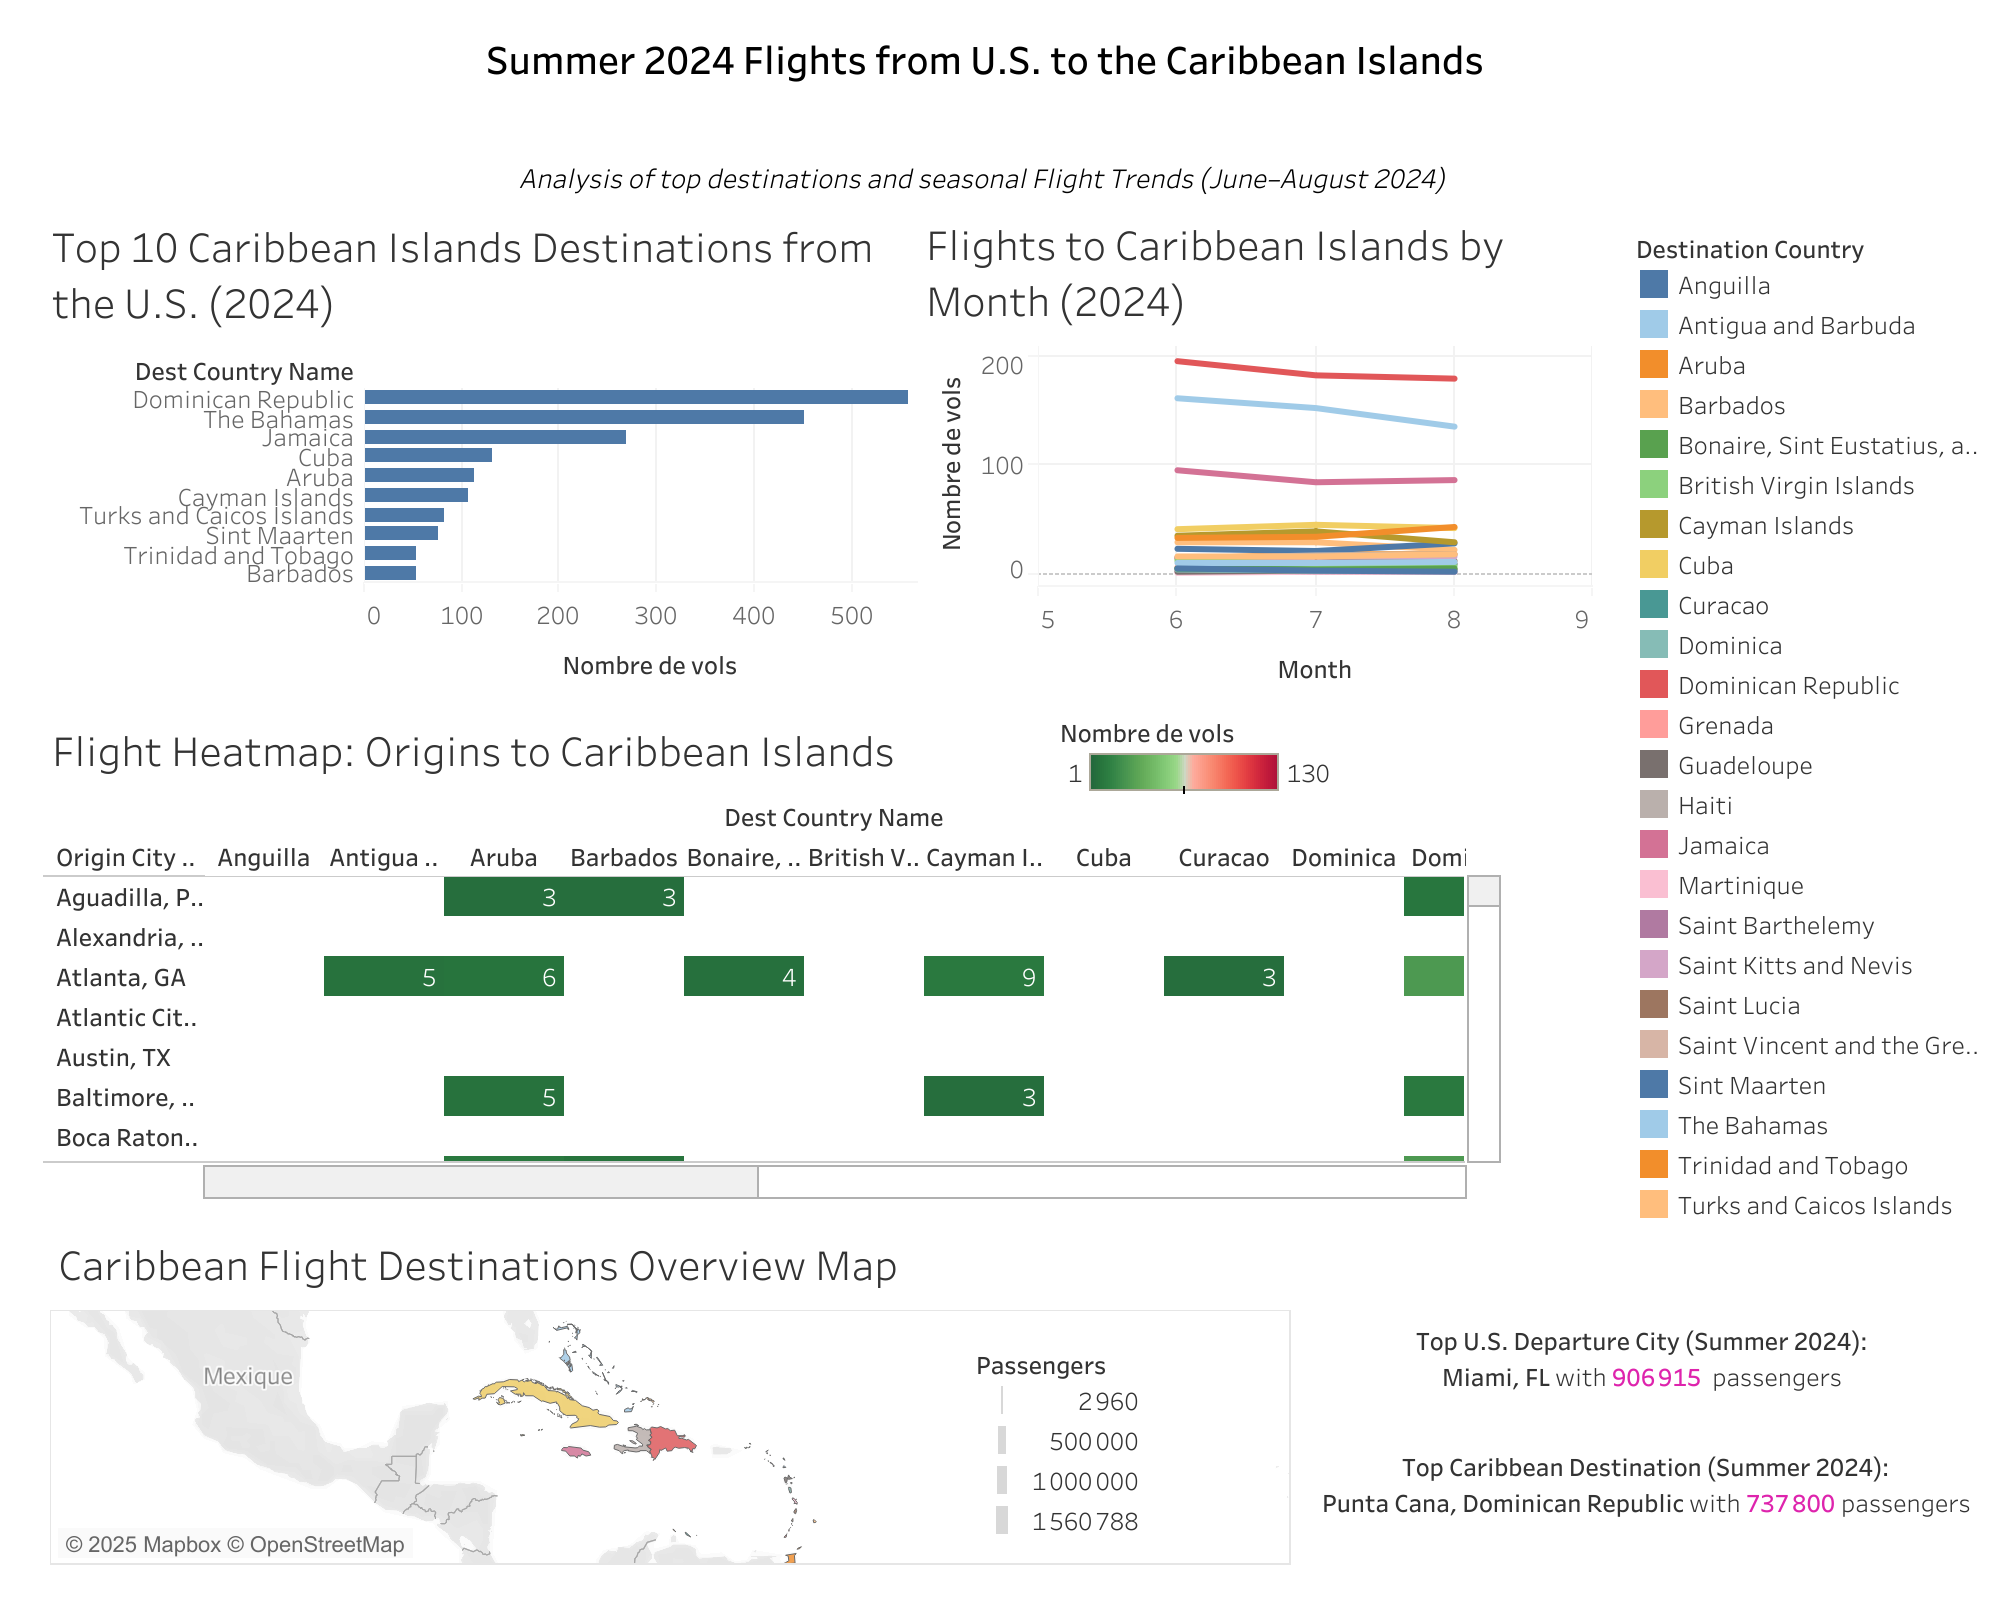

This screenshot's page, from the dashboard's own definition file:
{"tool":"tableau","page":{"name":"Summer 2024 Flights Dashboard","canvas":[1000,800],"ordinal":0},"visuals":[{"type":"text","box":[213,14,559,86]},{"type":"worksheet","title":"Flights by Month (Summer 2024)","mark":"Automatic","rows":["Calculation_1055583551770716"],"cols":["MONTH"],"box":[459,102,337,248]},{"type":"worksheet","title":"Top 10 Caribbean Islands Destinations from the U.S. (2024)","mark":"Automatic","rows":["DEST_COUNTRY_NAME"],"cols":["Calculation_1055583551770716"],"box":[22,103,446,245]},{"type":"legend","title":"Flights by Month (Summer 2024)","param":"[federated.09rpq0c1dmxqzr1ciyg1q0bdrgly].[none:DEST_COUNTRY_NAME:nk]","box":[817,113,175,508]},{"type":"legend","title":"Heatmap Origin vs Dest","param":"[federated.09rpq0c1dmxqzr1ciyg1q0bdrgly].[usr:Calculation_1055583551770716:qk]","box":[530,353,140,80]},{"type":"worksheet","title":"Heatmap Origin vs Dest","mark":"Square","rows":["ORIGIN_CITY_NAME"],"cols":["DEST_COUNTRY_NAME"],"box":[22,355,729,245]},{"type":"worksheet","title":"Map Overview","mark":"Multipolygon","box":[25,612,621,171]},{"type":"worksheet","title":"Top Origin City KPI","mark":"Text","box":[696,646,251,80]},{"type":"legend","title":"Map Overview","param":"[federated.09rpq0c1dmxqzr1ciyg1q0bdrgly].[sum:PASSENGERS:qk]","box":[487,671,140,99]}]}

Visuals, with their boxes in screenshot pixels (x1, y1, x2, y2), scaled from the page's 1000x800 canvas onto the 1998x1598 screenshot:
text: box(426, 28, 1542, 200)
"Flights by Month (Summer 2024)" worksheet: box(917, 204, 1590, 699)
"Top 10 Caribbean Islands Destinations from the U.S. (2024)" worksheet: box(44, 206, 935, 695)
"Flights by Month (Summer 2024)" legend: box(1632, 226, 1982, 1240)
"Heatmap Origin vs Dest" legend: box(1059, 705, 1339, 865)
"Heatmap Origin vs Dest" worksheet (Square marks): box(44, 709, 1500, 1198)
"Map Overview" worksheet (Multipolygon marks): box(50, 1222, 1291, 1564)
"Top Origin City KPI" worksheet (Text marks): box(1391, 1290, 1892, 1450)
"Map Overview" legend: box(973, 1340, 1253, 1538)
